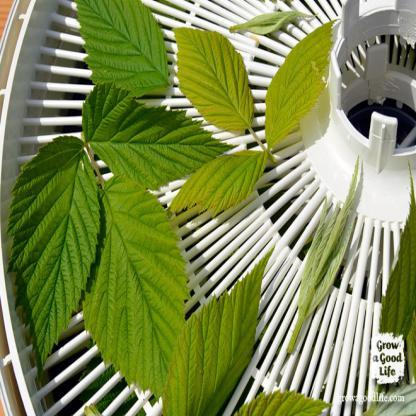Raspberry leaf: (70, 180, 188, 390), (8, 132, 101, 370), (75, 76, 228, 188), (265, 18, 337, 151), (172, 25, 253, 138), (167, 143, 268, 214)
